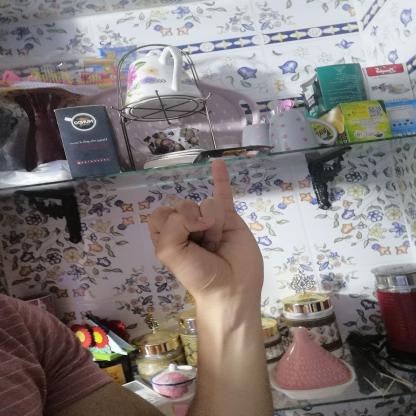MEEM: (132, 151, 275, 308)
